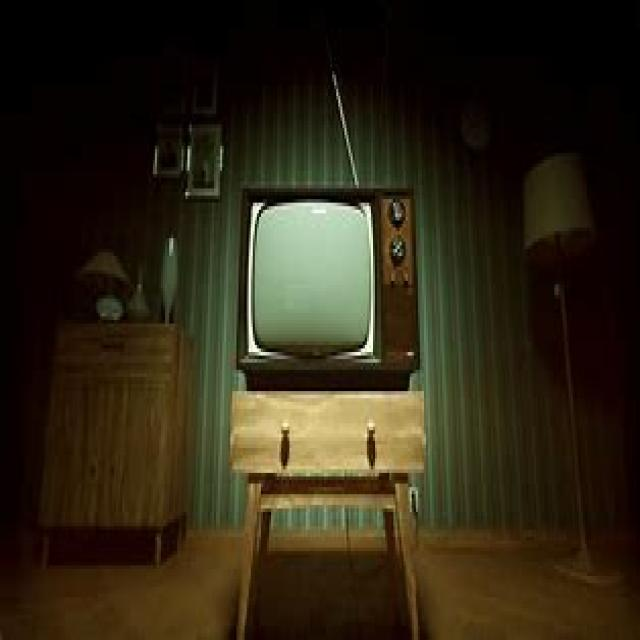tv: (234, 181, 420, 384)
